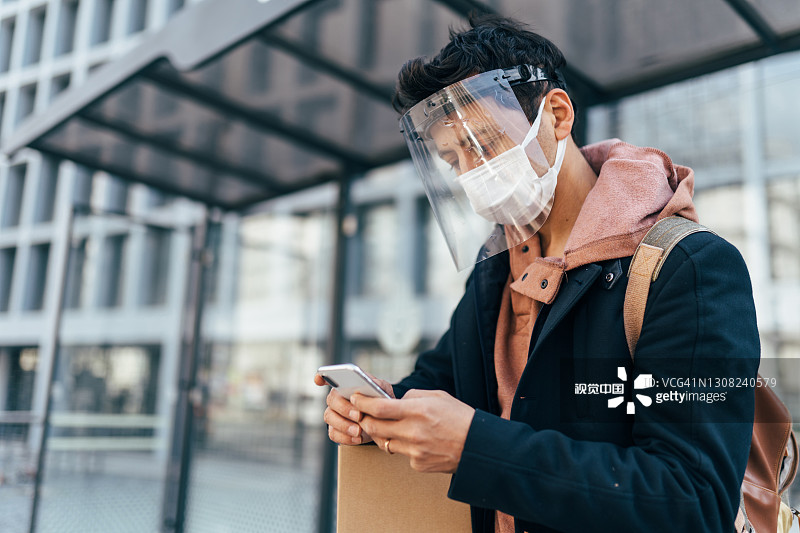reading: (295, 338, 489, 488)
